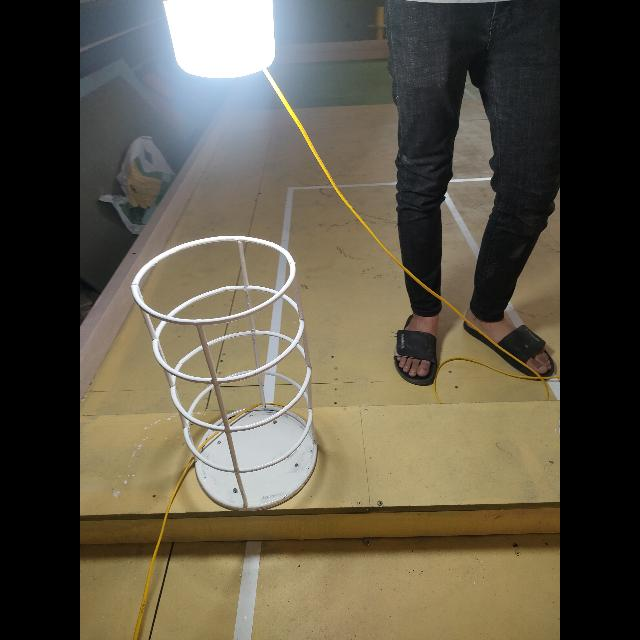S: (125, 234, 320, 513)
